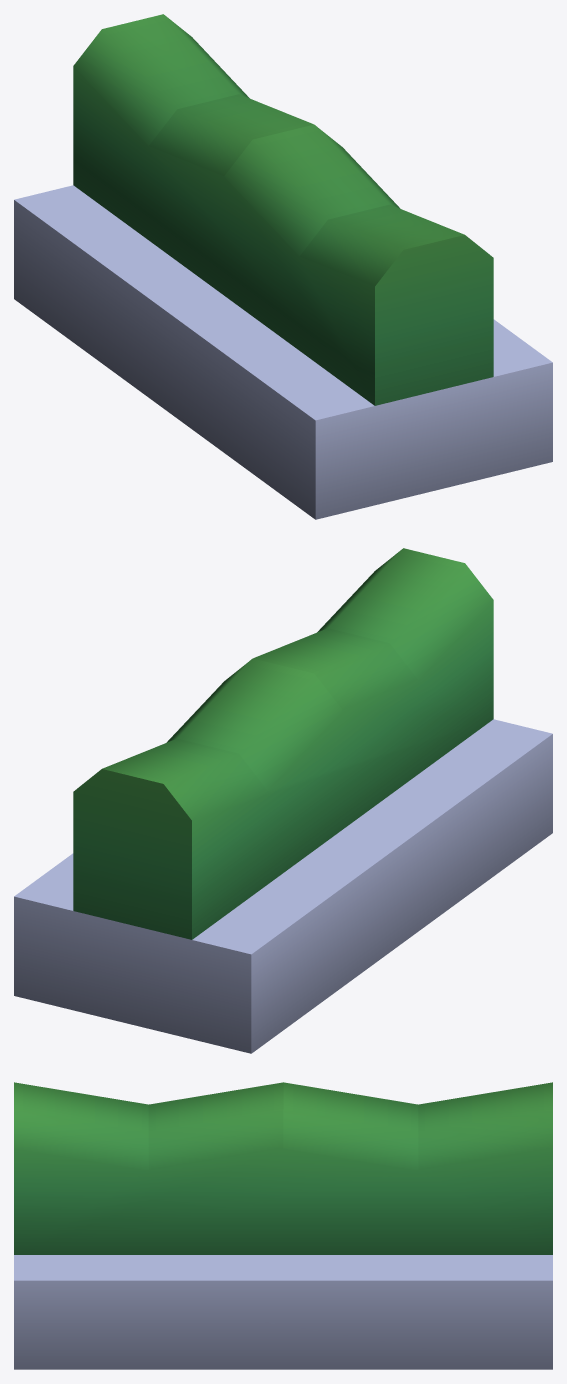
Rendered from hedge_end.glb.
3 views of the same model, one above another, from view 1: azimuth 30°, elevation 25°; view 2: azimuth 150°, elevation 25°; view 3: azimuth 270°, elevation 25° (orthographic). The views are drawn at different scales.
Visible parts, largest first — view 1: hedge_end; view 2: hedge_end; view 3: hedge_end.
Part boxes in pixels (left/top/right/bottom): hedge_end: left=14, top=14, right=552, bottom=519; hedge_end: left=14, top=548, right=552, bottom=1053; hedge_end: left=14, top=1082, right=552, bottom=1369.
Size of the model in its own units: 0.25 by 0.25 by 0.55.
1 material, 1 textured.
